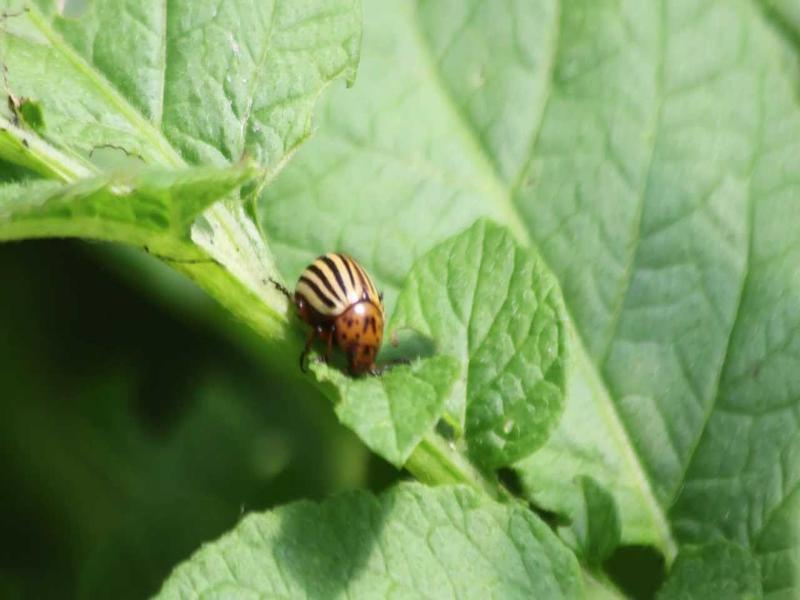hrosc: (284, 238, 407, 382)
